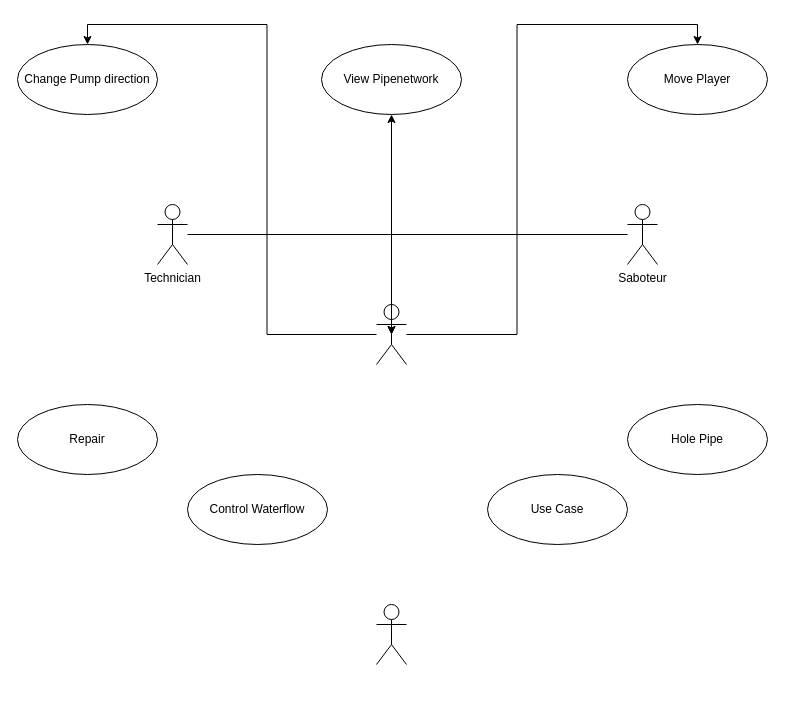
Some shapes in this 785 by 718 pixel diagram are drawn without their labels. Here are the shapes that lost their labels. From the top down, the centre of each, then its label:
At (391,334): "Player".
At (391,634): "<<internal>> Controller".
